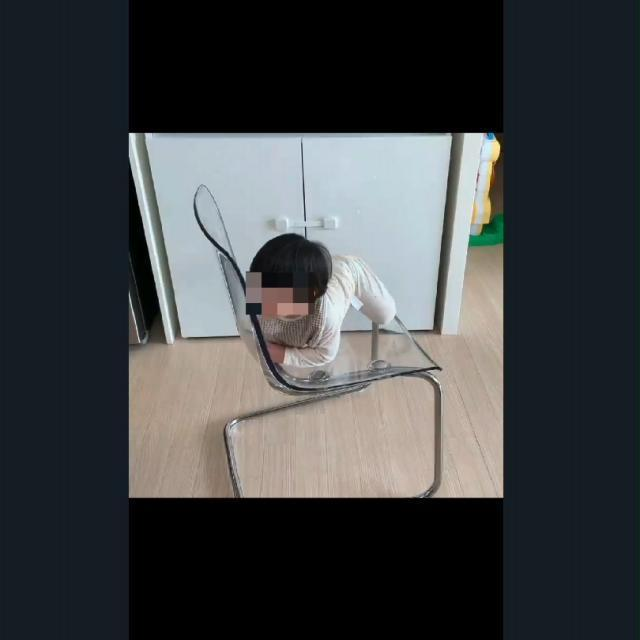child: (249, 232, 399, 375)
